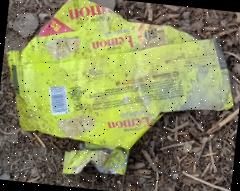general: (0, 0, 240, 189)
